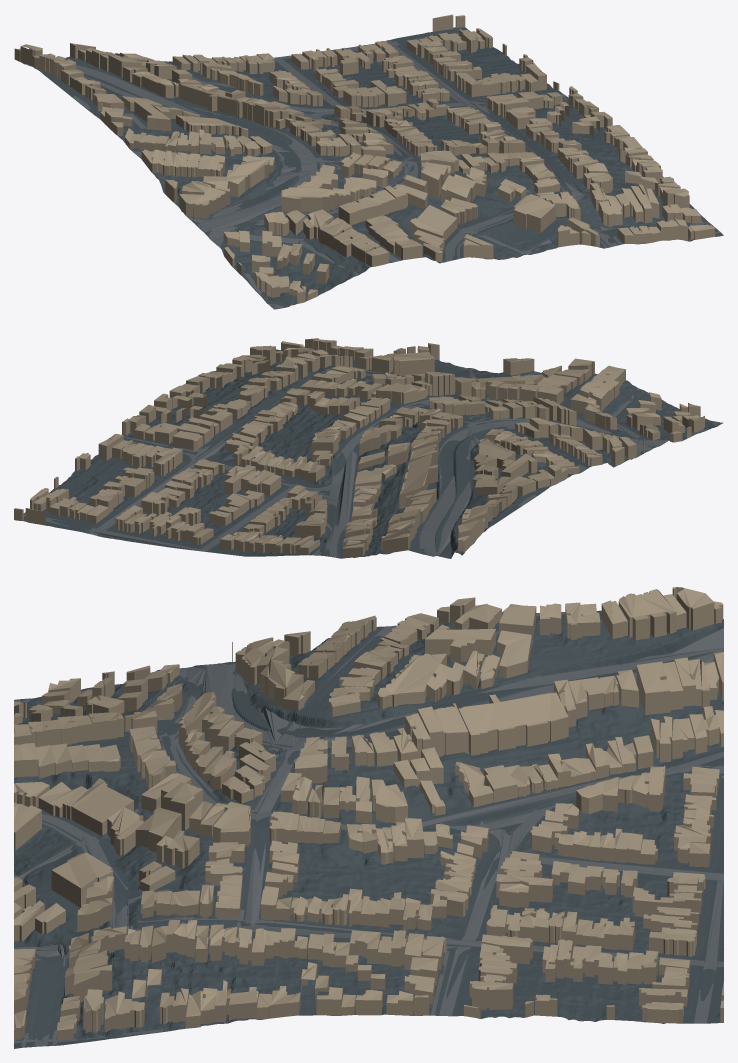
The model's file is epsg26910-1430-10882.source-tone-production-proof.glb.
The picture shows the model from 3 angles, top to bottom: view 1: azimuth 30°, elevation 25°; view 2: azimuth 150°, elevation 25°; view 3: azimuth 270°, elevation 25°; orthographic projection. The views are drawn at different scales.
Visible parts, largest first — view 1: epsg26910-1430-10882-lod0; view 2: epsg26910-1430-10882-lod0; view 3: epsg26910-1430-10882-lod0.
Boxes of the visible parts, x1,y1,x2,y2 form: epsg26910-1430-10882-lod0: (14, 14, 723, 309); epsg26910-1430-10882-lod0: (14, 338, 722, 558); epsg26910-1430-10882-lod0: (14, 587, 723, 1048).
Size of the model in its own units: 384 by 96.64 by 384.
